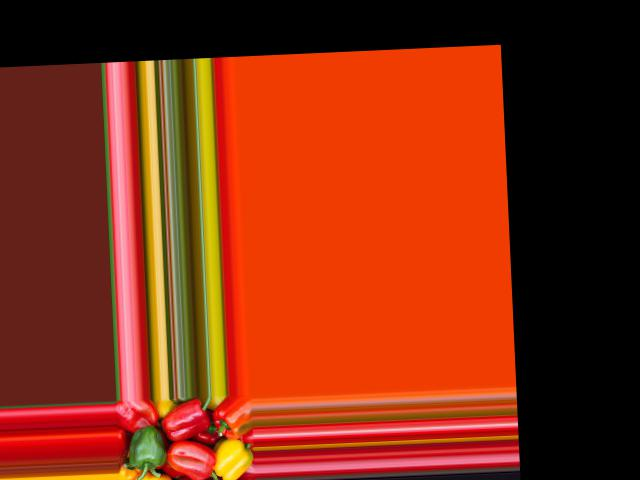bell_pepper: (210, 434, 254, 480)
